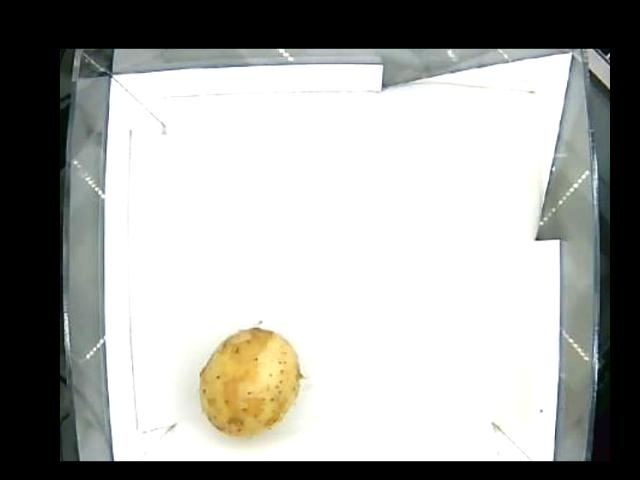Potato: (197, 325, 300, 435)
